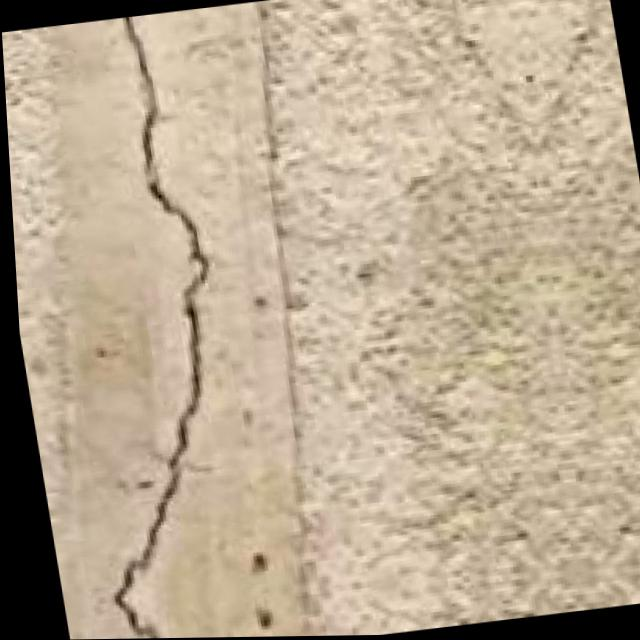Crack: (0, 6, 314, 640)
